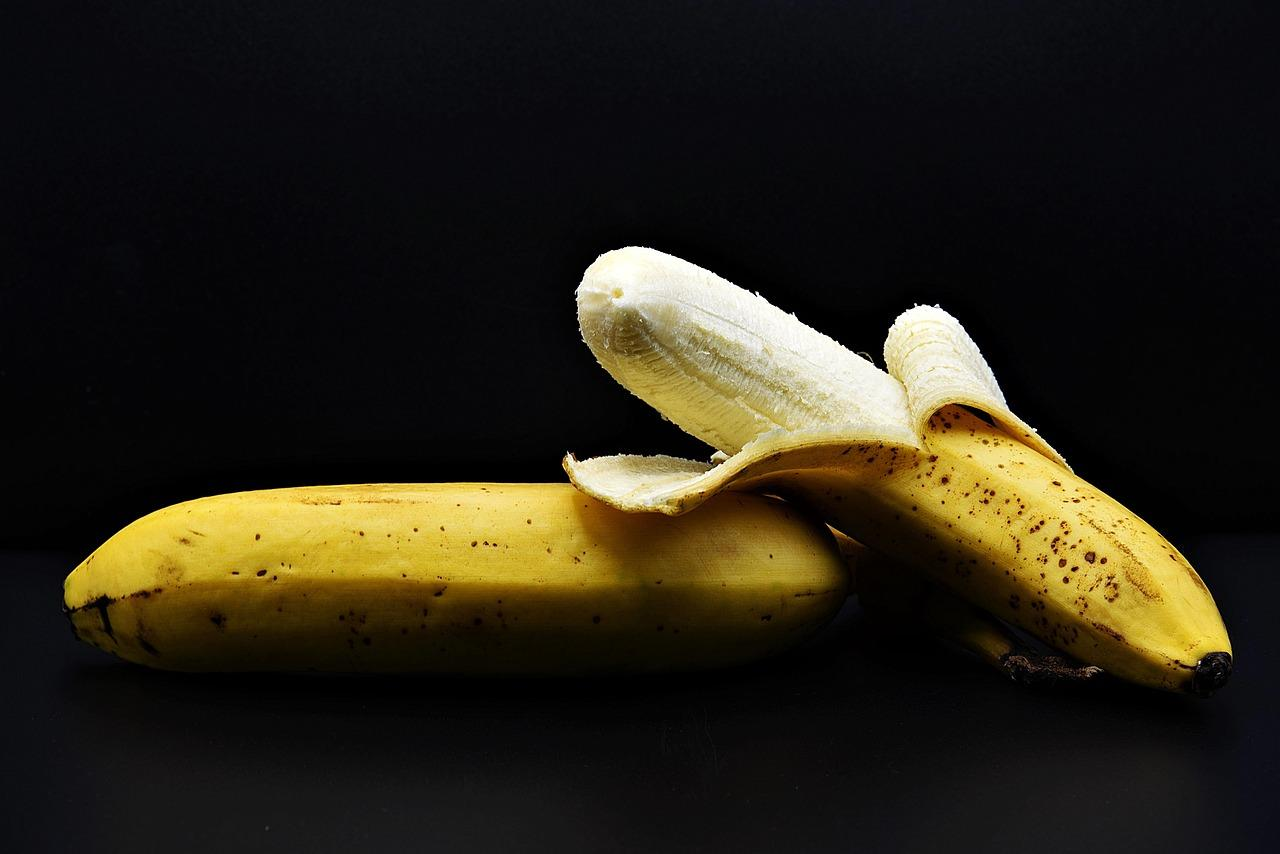banana: (53, 240, 1250, 712)
